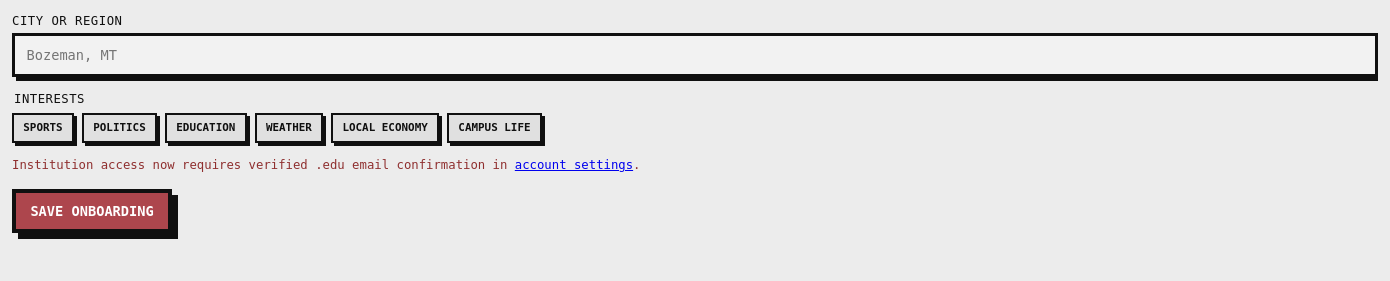
OnboardingForm › surfaces Supabase update errors
The width and height of the screenshot is (1390, 281).
Step 1. Type "Claremont, CA" into the field labelled "City or region" → coordinates (695, 55), box [12,33,1378,77]
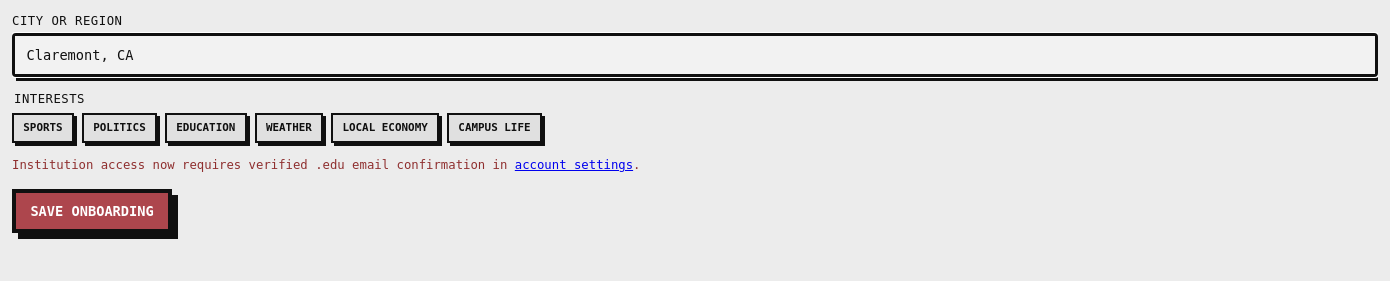
Step 2. Click the button "Education" → coordinates (206, 128), box [165,113,247,143]
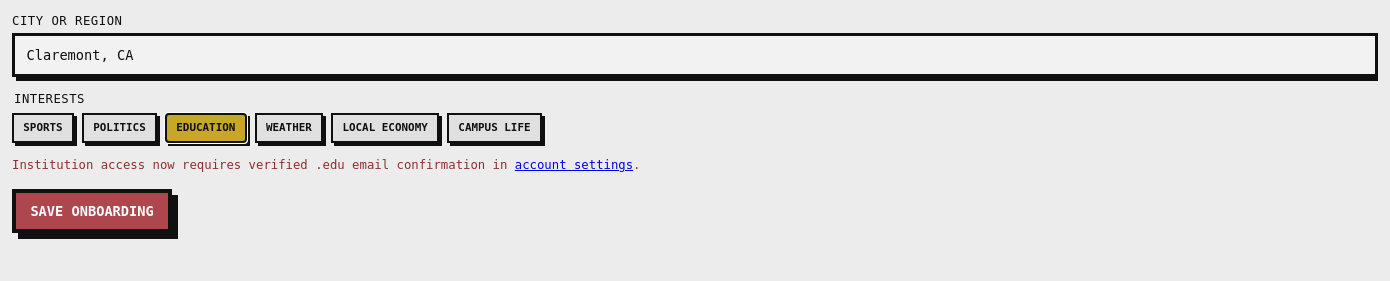
Step 3. Click the button "SAVE ONBOARDING" → coordinates (92, 211), box [12,189,172,233]
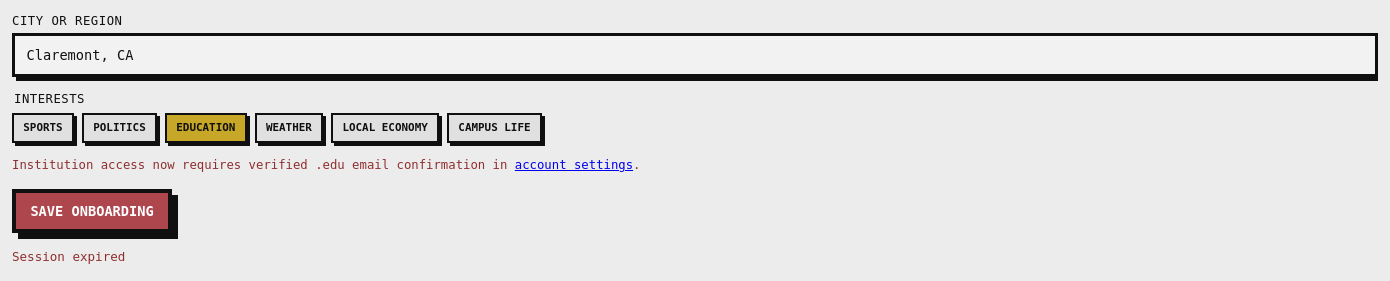
Expected: the text "Session expired" is shown, [12,249,125,264]
